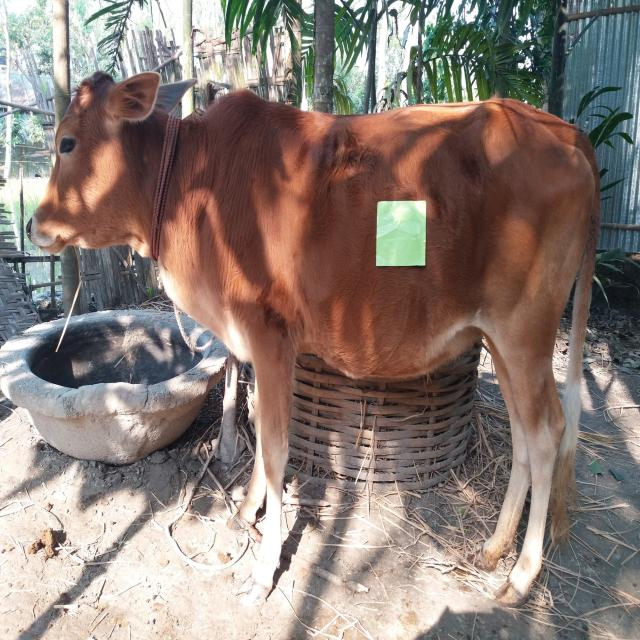badan_sapi: (249, 114, 603, 364)
sapi: (24, 65, 604, 617)
